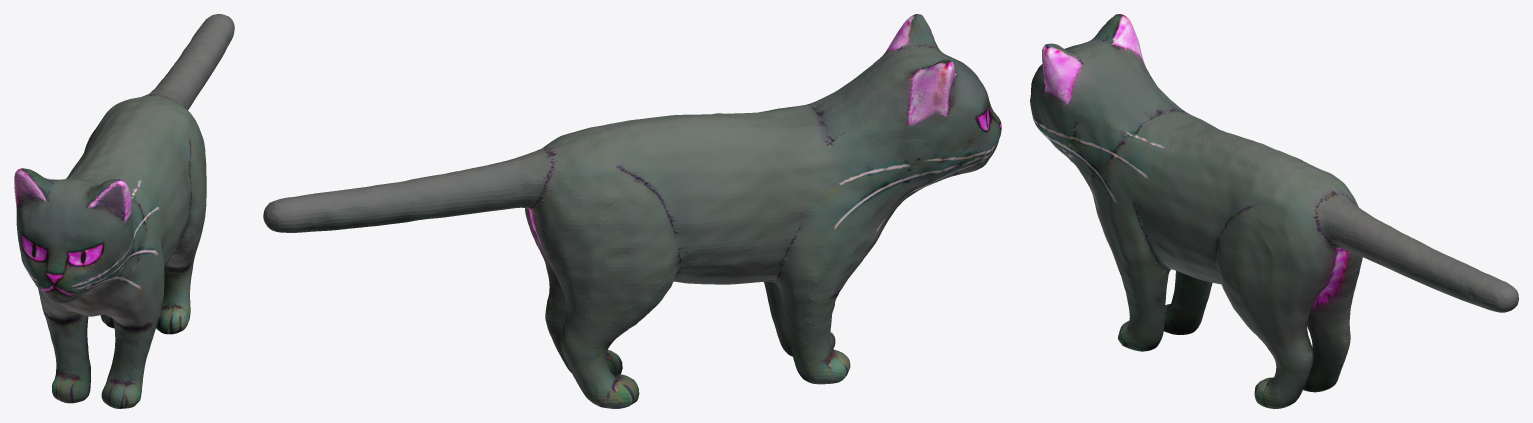
The model's file is angry_cat2_m1.glb.
The picture shows the model from 3 angles, left to right: view 1: azimuth 30°, elevation 25°; view 2: azimuth 150°, elevation 25°; view 3: azimuth 270°, elevation 25°; orthographic projection. The views are drawn at different scales.
Visible parts, largest first — view 1: fine_mesh; view 2: fine_mesh; view 3: fine_mesh.
Boxes of the visible parts, <box> form: fine_mesh: <box>14,14,234,408</box>; fine_mesh: <box>263,14,1001,408</box>; fine_mesh: <box>1030,14,1518,408</box>.
Size of the model in its own units: 1.6 by 1.01 by 1.6.
Materials: 1 (1 with a texture image).
